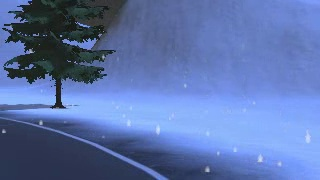Lane: (0, 117, 168, 179)
